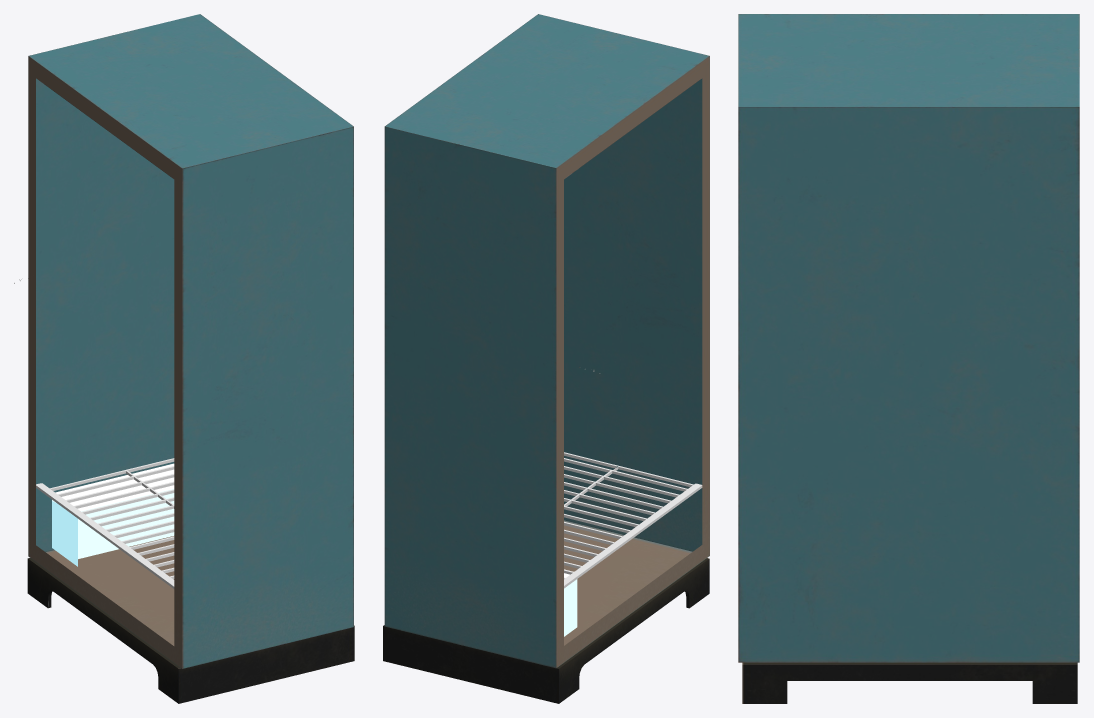
3 renders of one model, left to right at view 1: azimuth 30°, elevation 25°; view 2: azimuth 150°, elevation 25°; view 3: azimuth 270°, elevation 25°, orthographic. The views are drawn at different scales.
Parts seen in each view (by area): view 1: pCube211, square, Box033_Chrome_0.001; view 2: pCube211, Box033_Chrome_0.001, square; view 3: pCube211.
Part boxes in pixels (x1=…): pCube211: x1=14, y1=14, x2=354, y2=703; square: x1=52, y1=463, x2=174, y2=566; Box033_Chrome_0.001: x1=36, y1=458, x2=174, y2=588; pCube211: x1=383, y1=14, x2=709, y2=703; Box033_Chrome_0.001: x1=564, y1=452, x2=702, y2=588; square: x1=564, y1=569, x2=577, y2=636; pCube211: x1=738, y1=14, x2=1079, y2=703.
Bounding box in the file's own units: 54.32 × 137 × 71.18.
3 materials, 1 textured.
